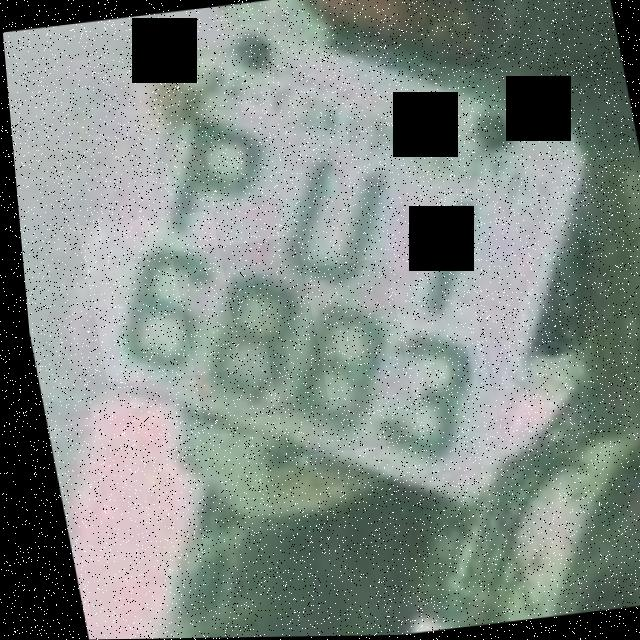3: (322, 305, 498, 482)
6: (72, 211, 236, 385)
8: (246, 259, 414, 458), (165, 237, 323, 424)
U: (234, 117, 418, 301)
